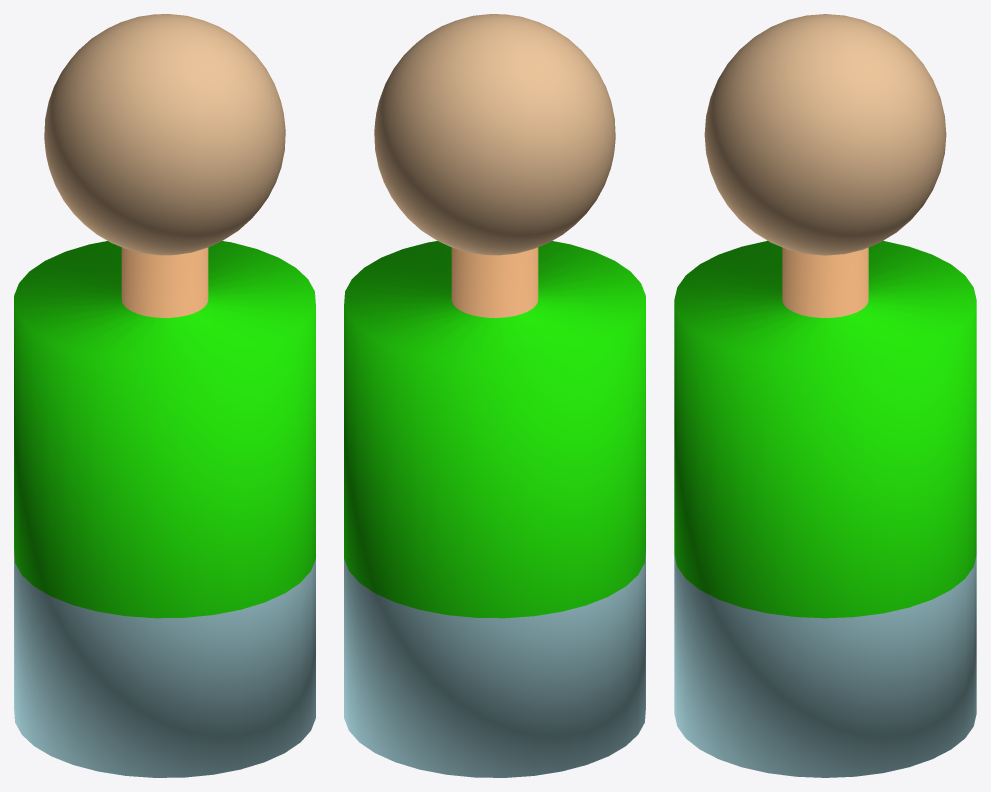
The model's file is Character_04.fbx.
3 renders of one model, left to right at view 1: azimuth 30°, elevation 25°; view 2: azimuth 150°, elevation 25°; view 3: azimuth 270°, elevation 25°, orthographic.
Parts seen in each view (by area): view 1: Circle.006, Icosphere.006; view 2: Circle.006, Icosphere.006; view 3: Circle.006, Icosphere.006.
Part boxes in pixels (x1=…): Circle.006: x1=14, y1=241, x2=315, y2=777; Icosphere.006: x1=44, y1=14, x2=285, y2=255; Circle.006: x1=344, y1=241, x2=645, y2=777; Icosphere.006: x1=374, y1=14, x2=615, y2=255; Circle.006: x1=674, y1=240, x2=976, y2=777; Icosphere.006: x1=704, y1=14, x2=946, y2=255.
Bounding box in the file's own units: 200 × 503 × 200.
